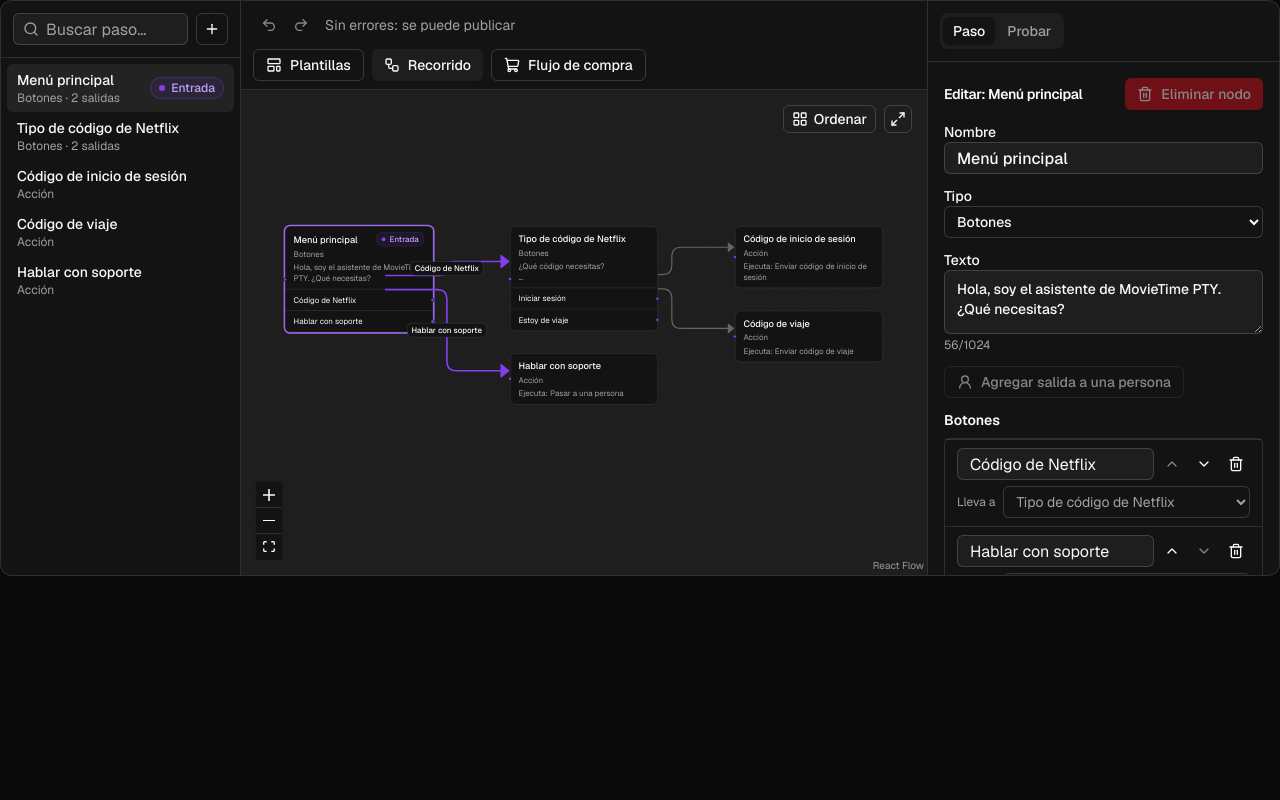
Scenario: pasar a una persona desde cualquier nodo › no se ofrece en nodos de texto ni de accion
Step 1. Click the button "Código de viaje Acción" → (120, 232), box left=7, top=208, right=234, bottom=256
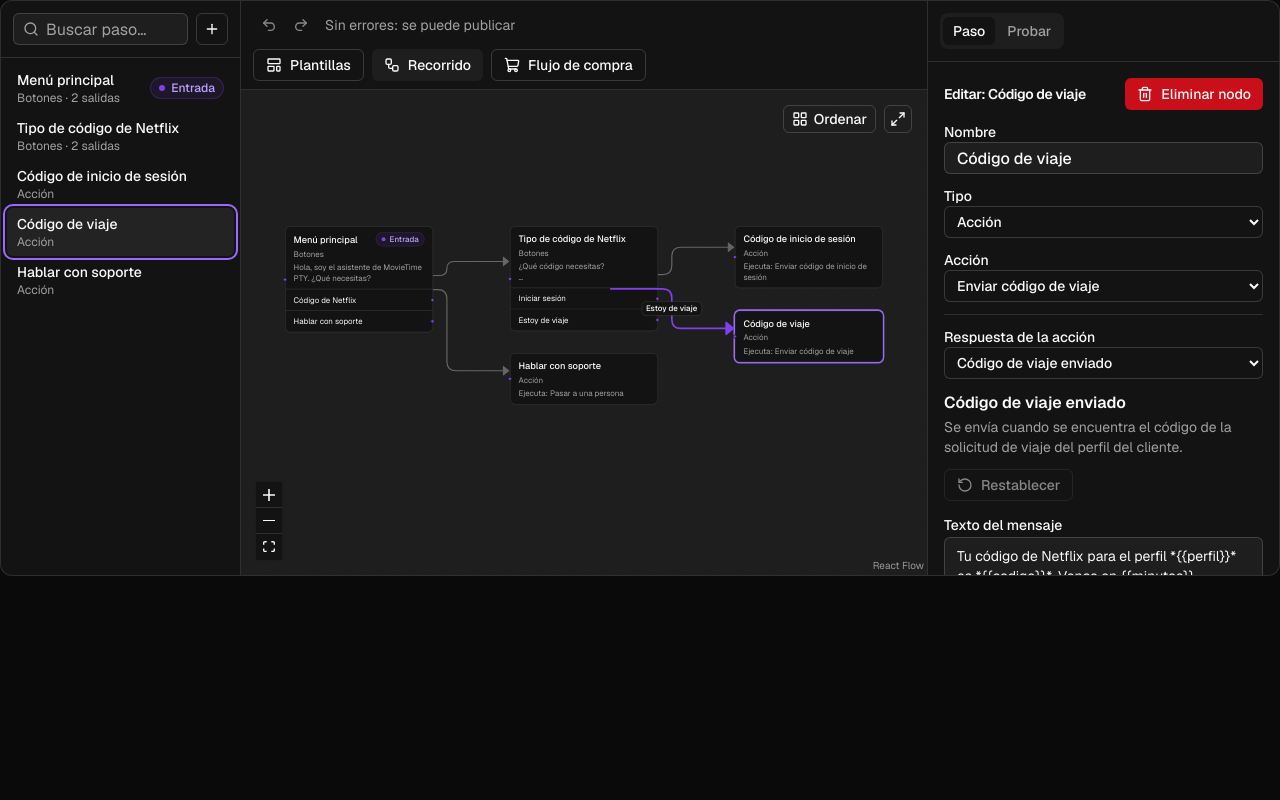
Expected: the button "Agregar salida a una persona" is gone
